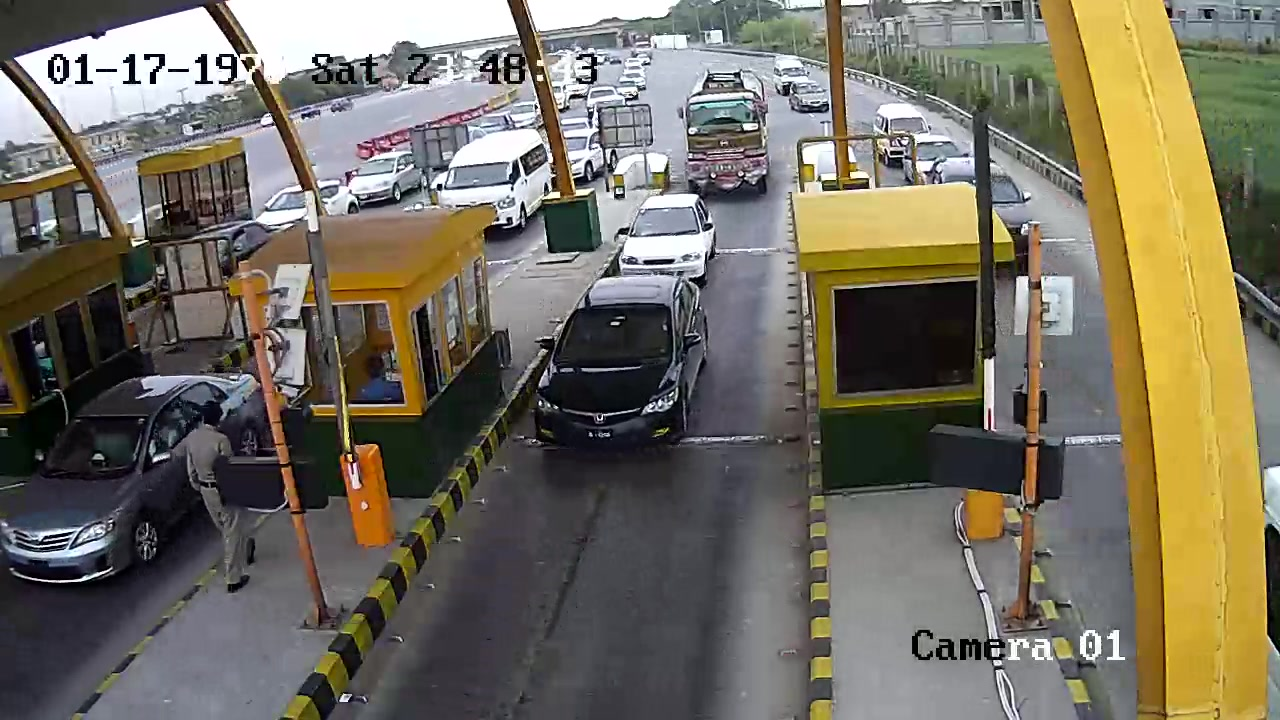F1: (523, 268, 725, 462)
